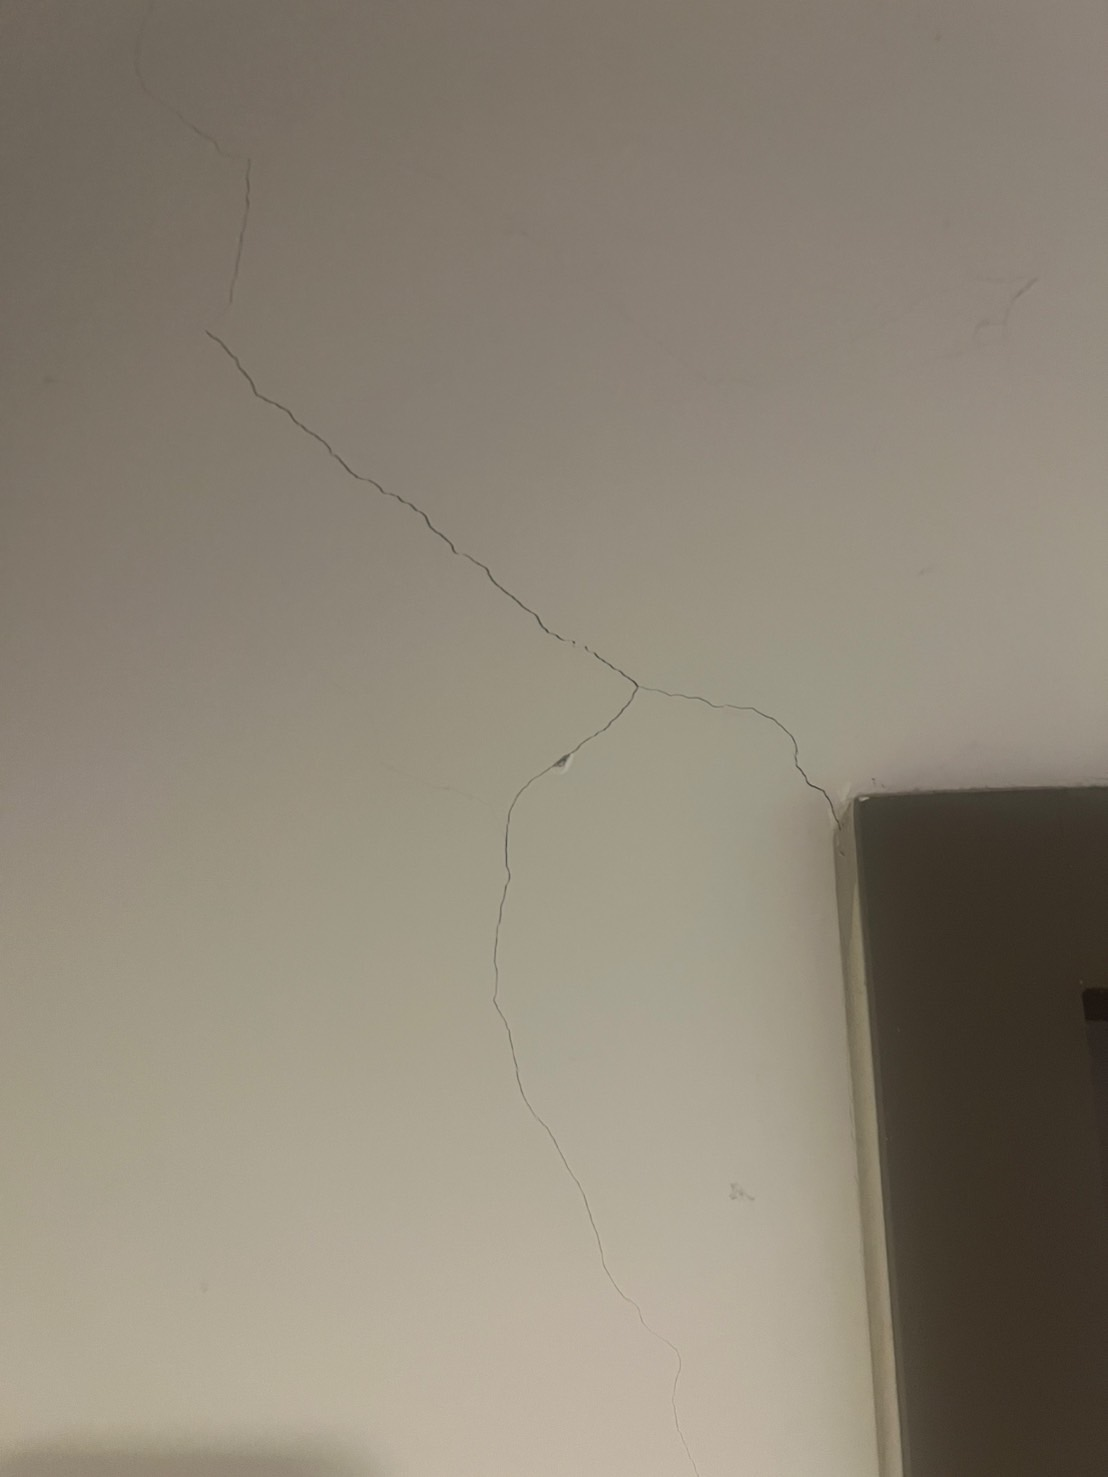Low: (121, 6, 841, 1472)
